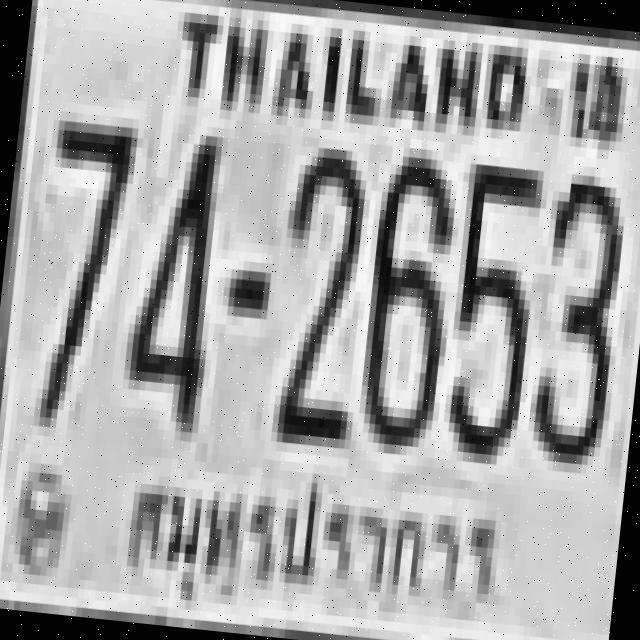2: (268, 140, 372, 444)
3: (522, 167, 626, 461)
4: (119, 120, 223, 423)
5: (438, 154, 542, 456)
6: (353, 144, 457, 448)
7: (22, 110, 134, 423), (30, 110, 133, 349)
SamutPrakan: (112, 458, 512, 615)
